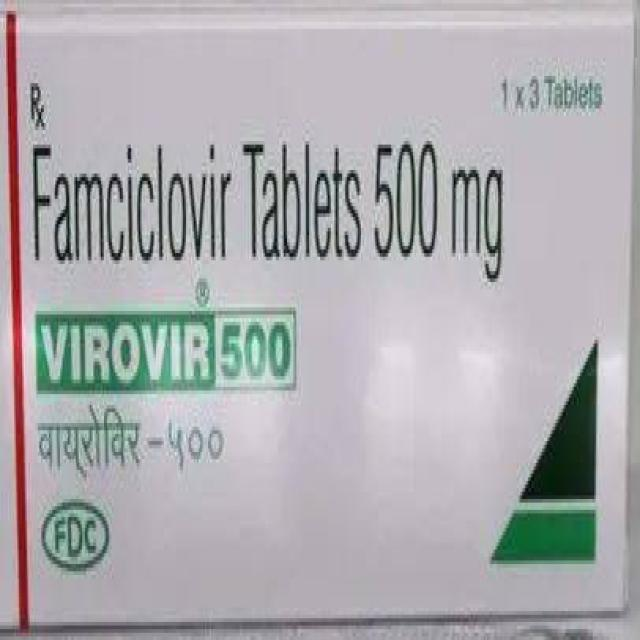drug-name: (39, 312, 294, 382)
